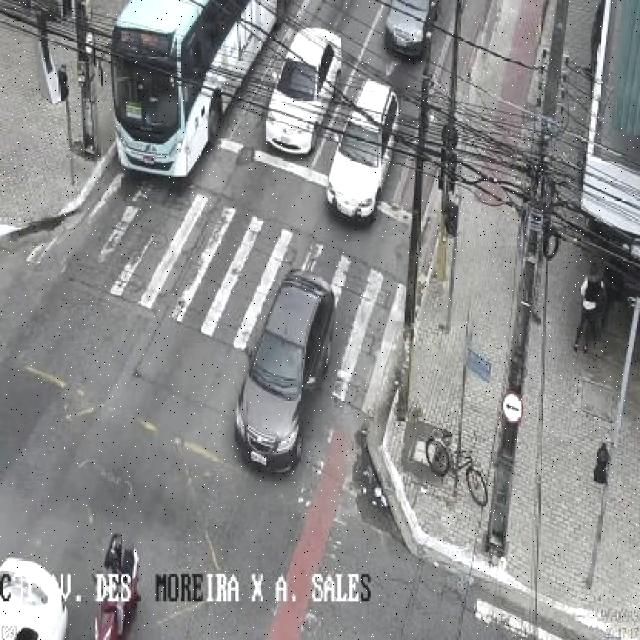bicycle: (425, 426, 487, 508)
bus: (97, 0, 286, 176)
car: (234, 264, 336, 476), (326, 74, 400, 226), (266, 24, 342, 156), (383, 1, 442, 56)
motorbike: (93, 532, 136, 636), (574, 263, 598, 354)
